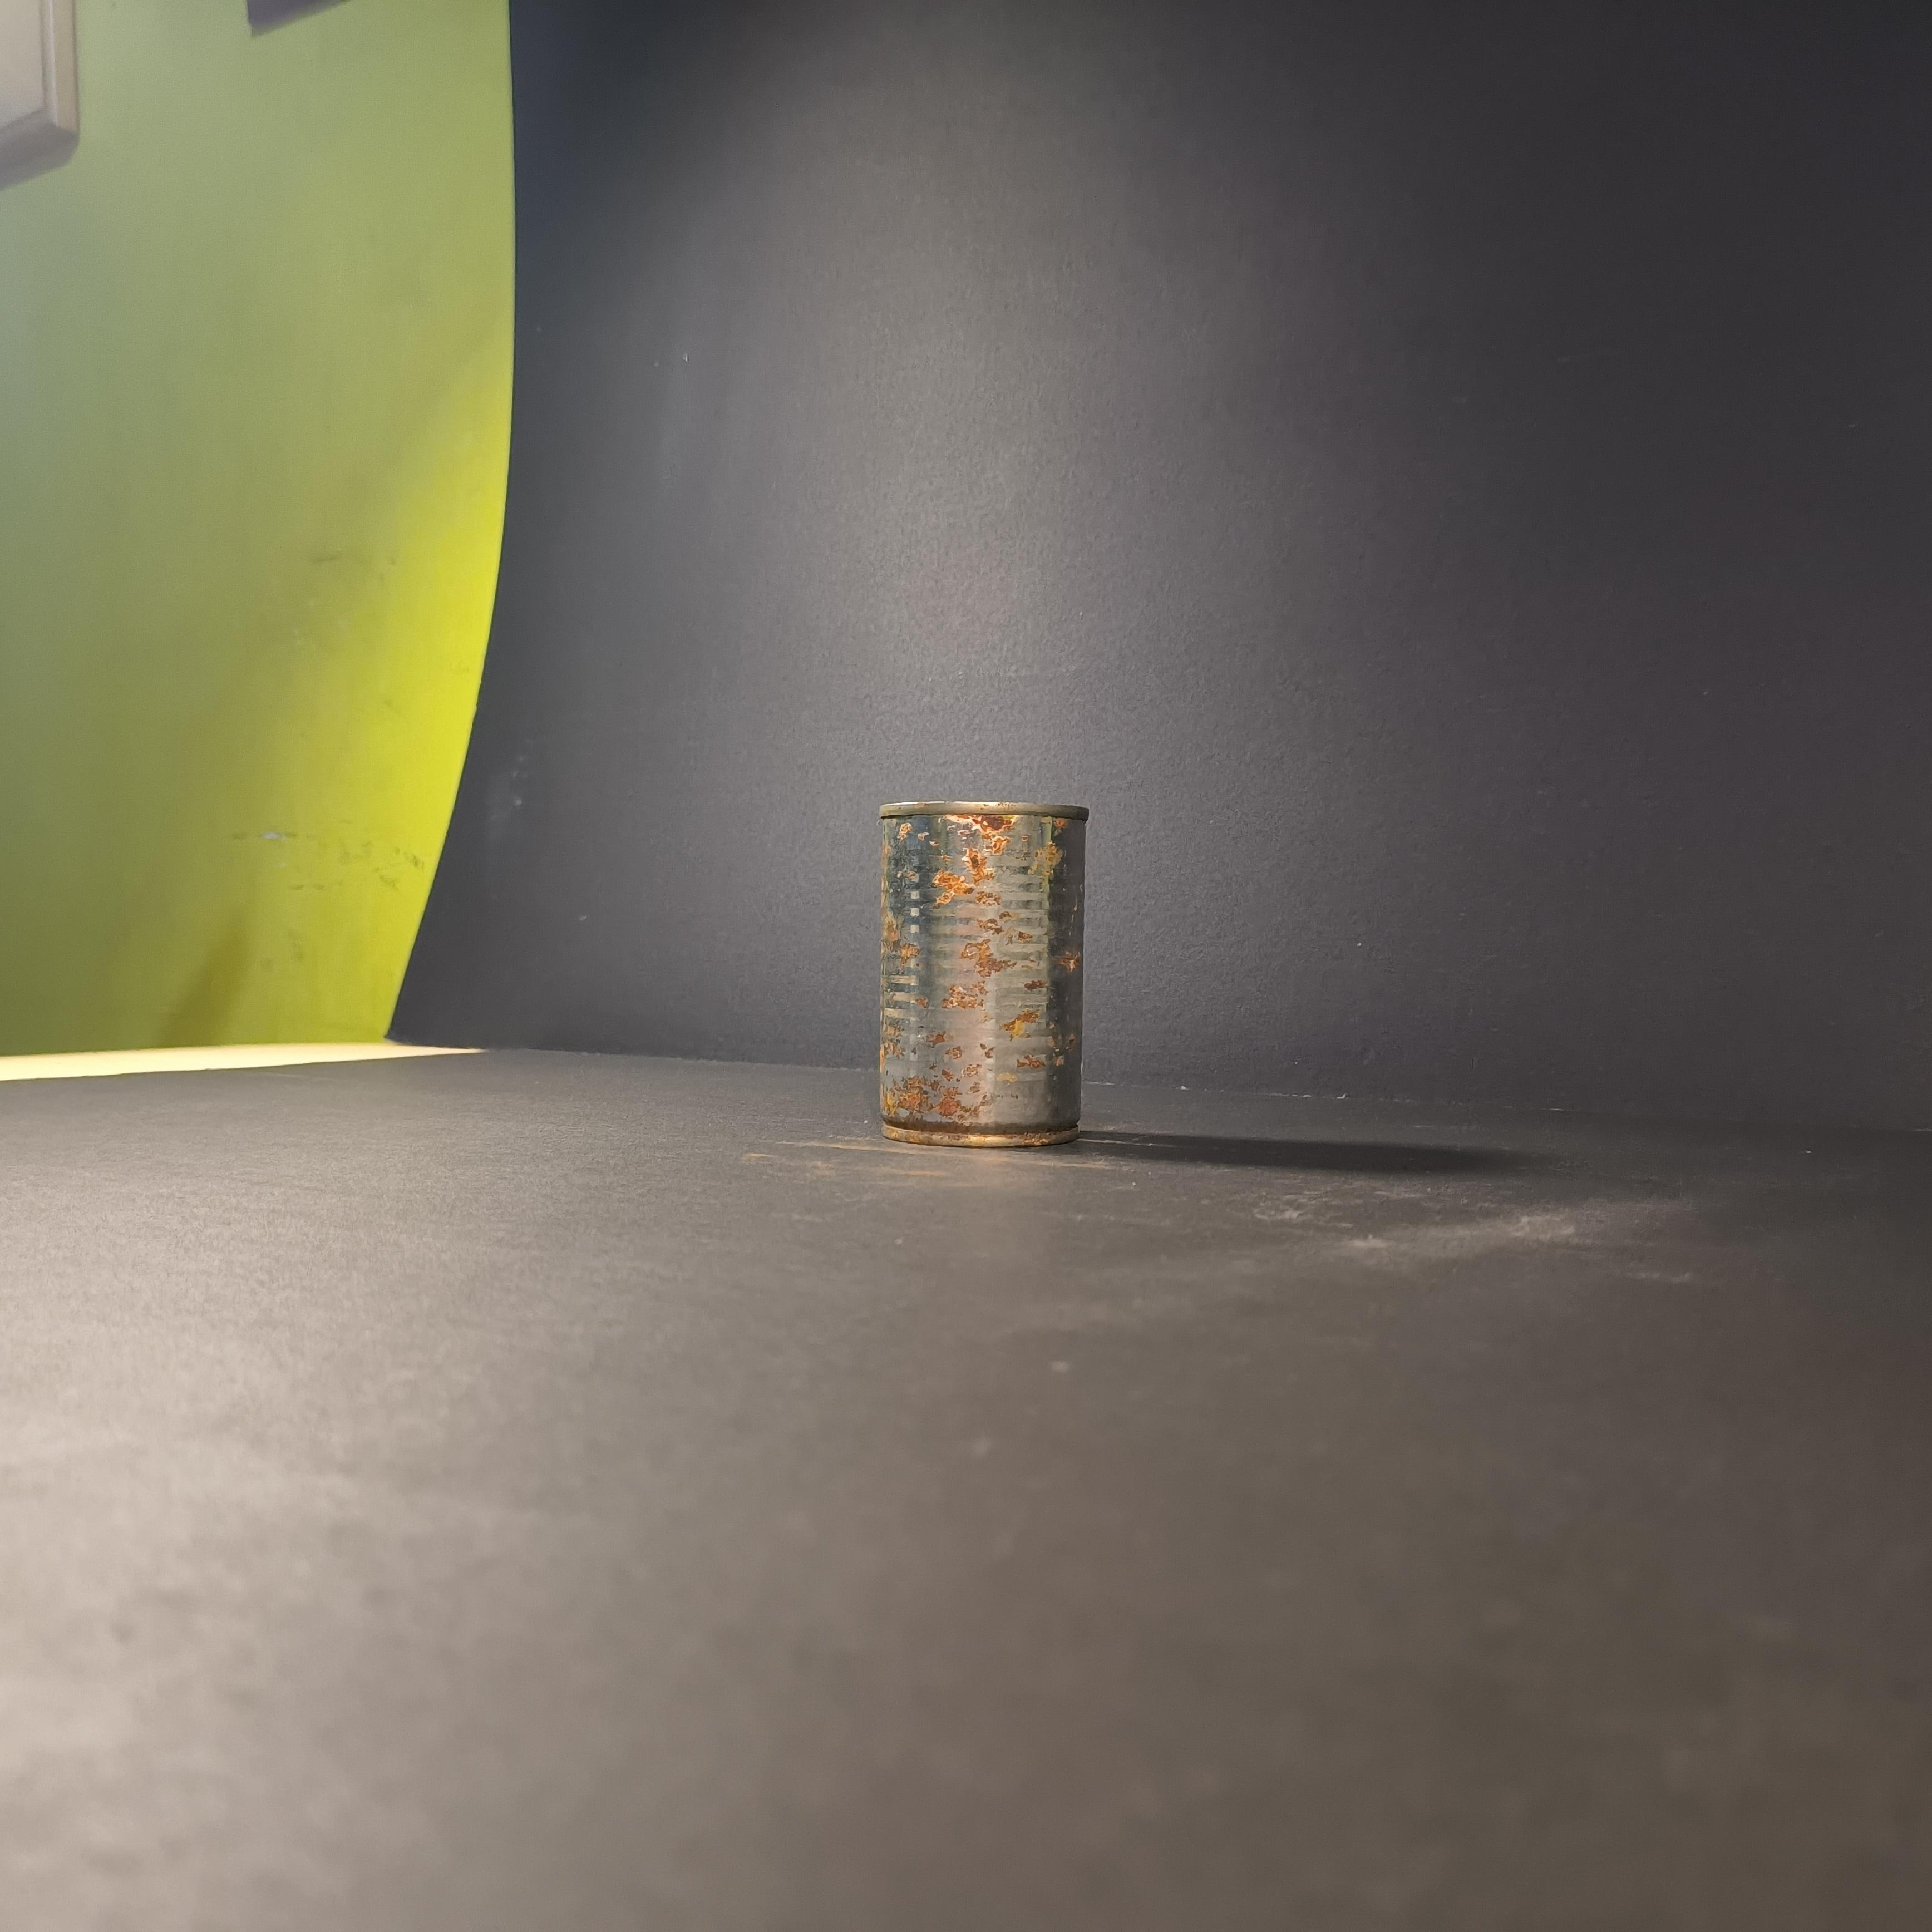Rusted: (869, 782, 1099, 1161)
